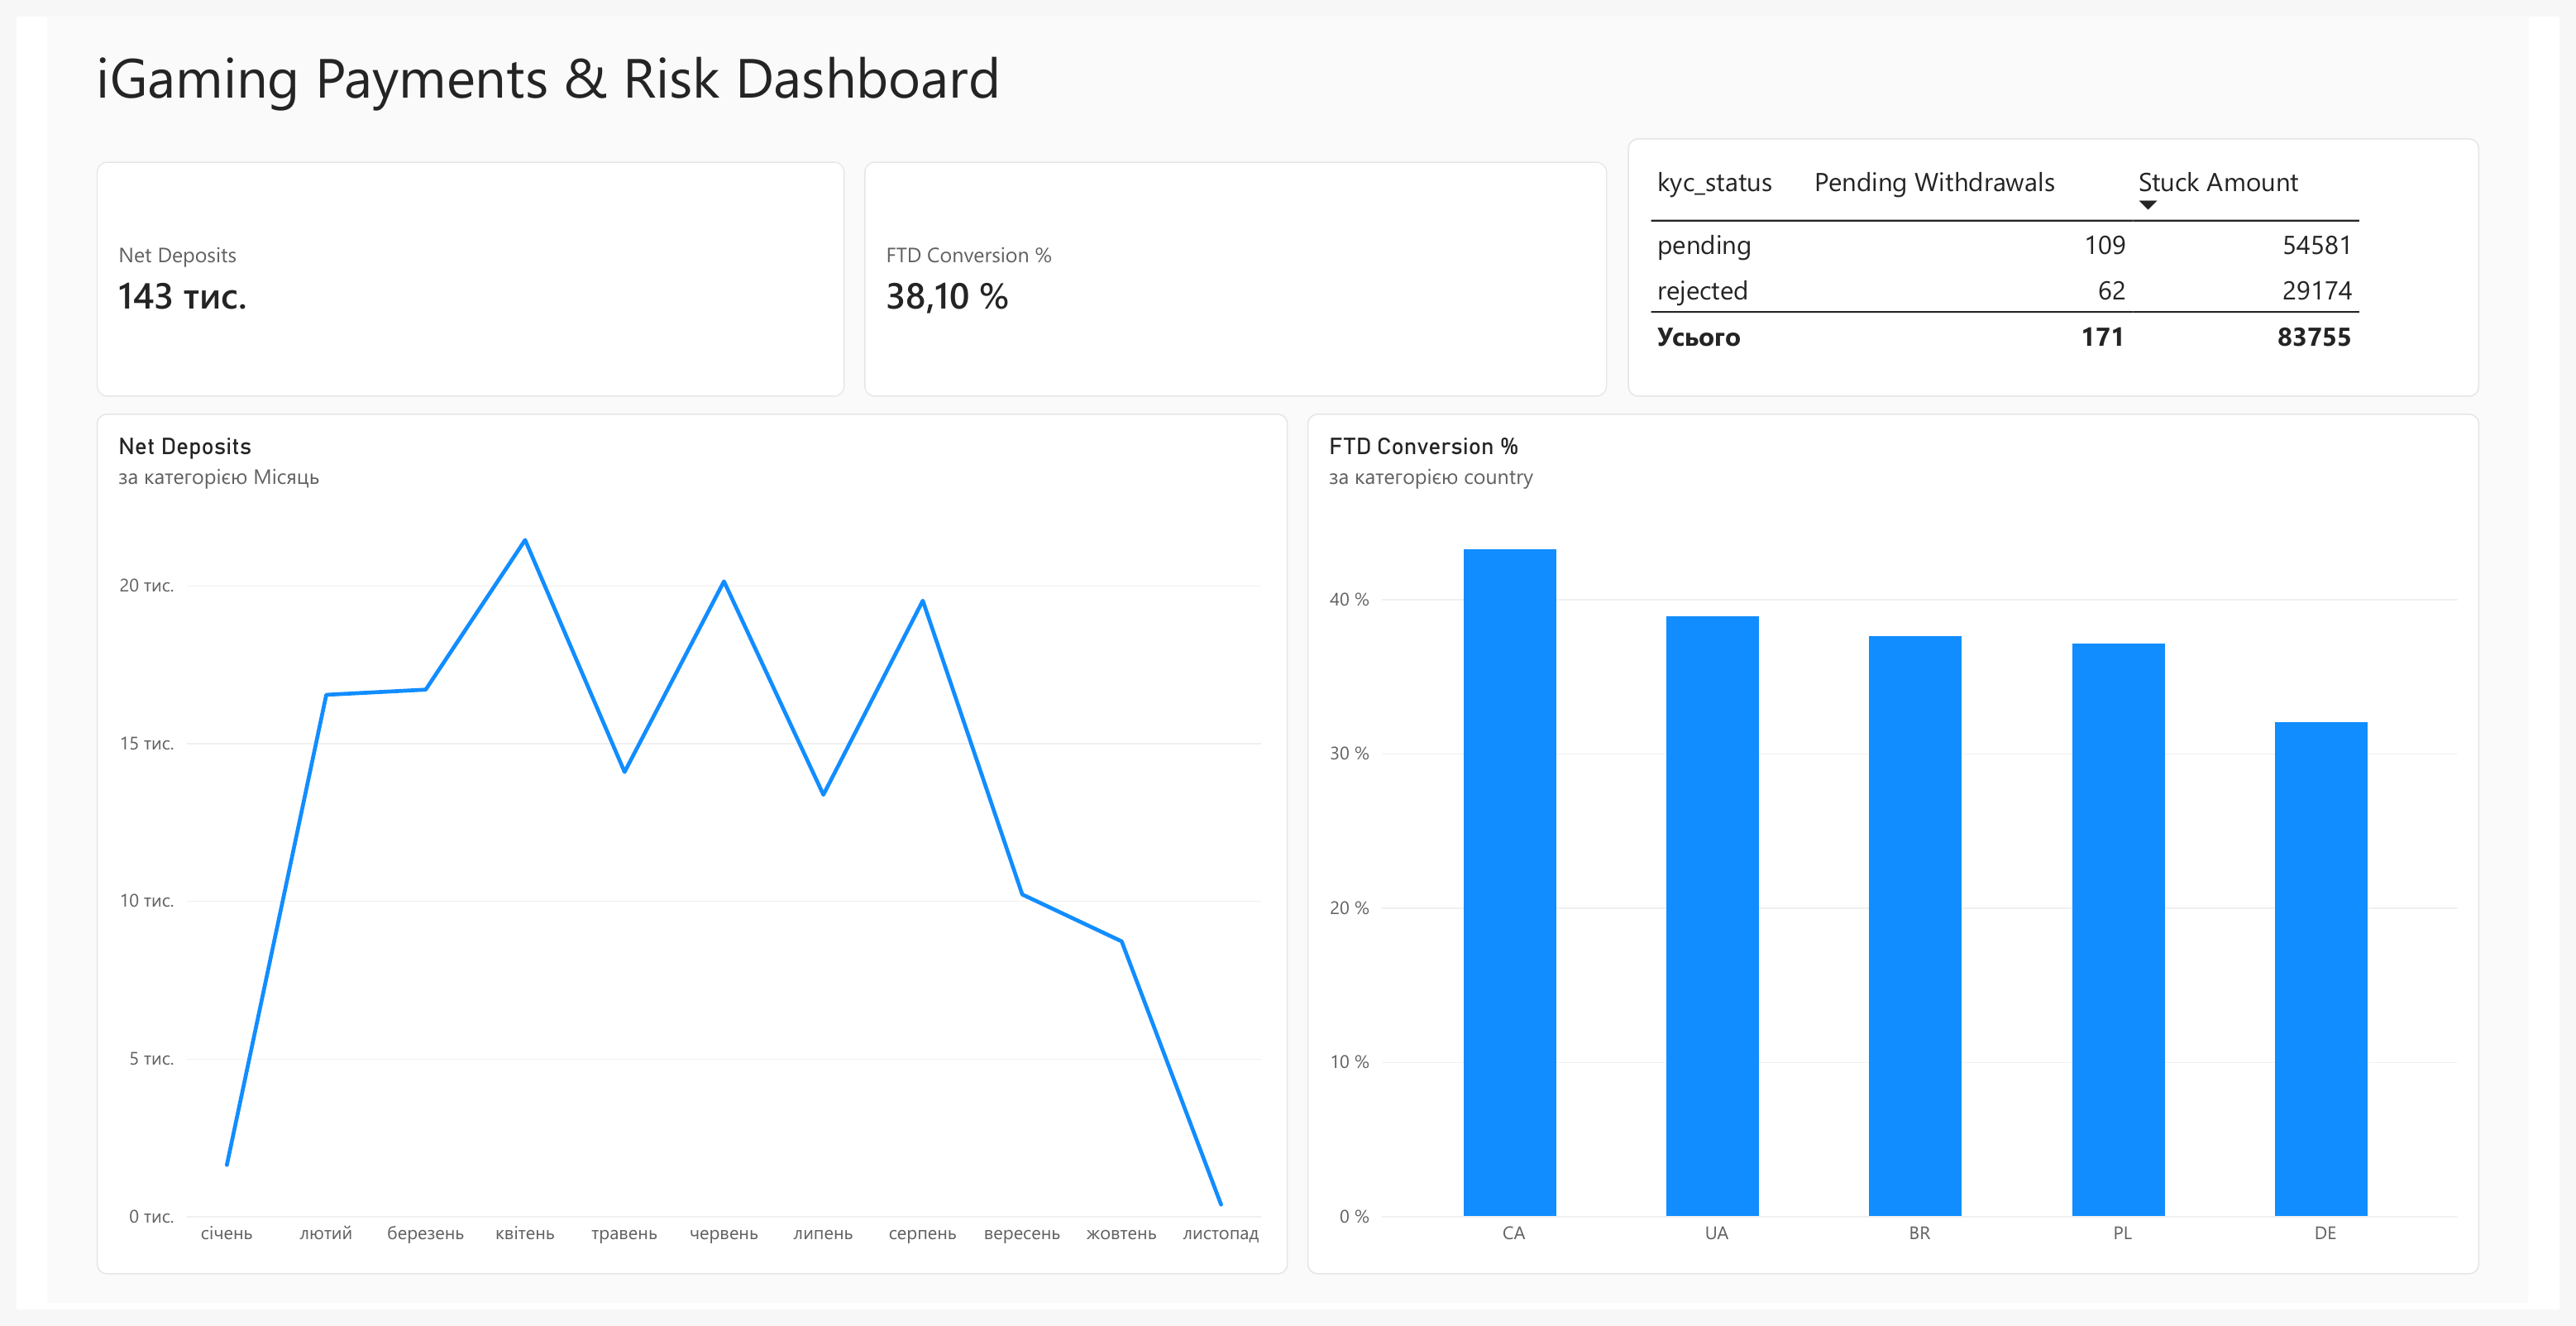

What the dashboard file says about the page in this screenshot:
{"tool":"powerbi","page":{"name":"Сторінка 1","canvas":[1920,1080],"ordinal":0},"visuals":[{"type":"cardVisual","fields":{"Data":["fact_transactions.Net Deposits"]},"box":[37.9,197,579.2,182.4],"z":0},{"type":"cardVisual","fields":{"Data":["dim_players.FTD Conversion %"]},"box":[631.7,197,574.8,182.4],"z":1},{"type":"clusteredColumnChart","fields":{"Category":["dim_players.country"],"Y":["dim_players.FTD Conversion %"]},"box":[974.6,392.5,907.5,665.3],"z":2},{"type":"lineChart","fields":{"Category":["fact_transactions.created_at.Variation.Ієрархія дат.Місяць"],"Y":["fact_transactions.Net Deposits"]},"box":[37.9,392.5,922.1,665.3],"z":3},{"type":"tableEx","fields":{"Values":["dim_players.kyc_status","fact_transactions.Pending Withdrawals","fact_transactions.Stuck Amount"]},"box":[1222.6,179.5,659.5,199.9],"z":4},{"type":"textbox","box":[37.9,102.1,1844.1,77.3],"z":5}]}

Visuals, with their boxes on the page's 1920x1080 design canvas (x1, y1, x2, y2). These are canvas units, not pixel positions in the 2576x1326 screenshot, which may show the page scaled, cropped or inside an application window:
cardVisual - fact_transactions.Net Deposits: bbox=[38, 197, 617, 379]
cardVisual - dim_players.FTD Conversion %: bbox=[632, 197, 1206, 379]
clusteredColumnChart - dim_players.country x dim_players.FTD Conversion %: bbox=[975, 392, 1882, 1058]
lineChart - fact_transactions.created_at.Variation.Ієрархія дат.Місяць x fact_transactions.Net Deposits: bbox=[38, 392, 960, 1058]
tableEx - dim_players.kyc_status x fact_transactions.Pending Withdrawals: bbox=[1223, 180, 1882, 379]
textbox: bbox=[38, 102, 1882, 179]
